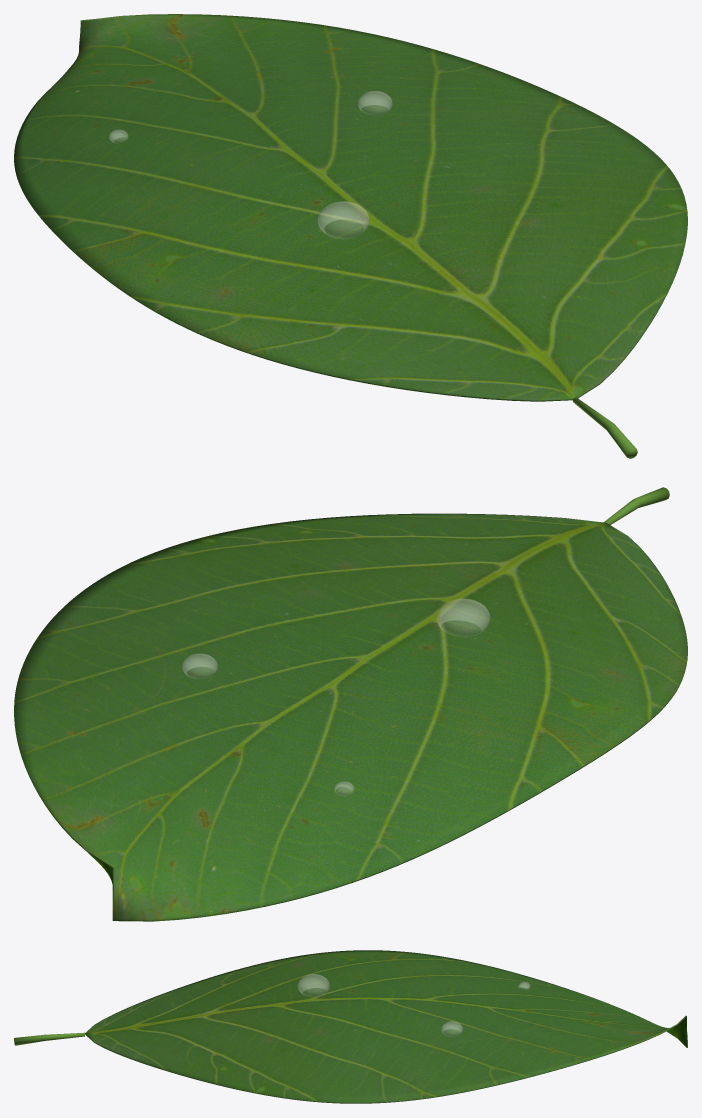
The model's file is leaf-v7.glb.
3 views of the same model, one above another, from view 1: azimuth 30°, elevation 25°; view 2: azimuth 150°, elevation 25°; view 3: azimuth 270°, elevation 25° (orthographic). The views are drawn at different scales.
Visible parts, largest first — view 1: V7 curved smooth margin living leaf, Leaf dew water drop, V7 curved short leaf petiole, Leaf dew water drop.001; view 2: V7 curved smooth margin living leaf, Leaf dew water drop, V7 curved short leaf petiole, Leaf dew water drop.001; view 3: V7 curved smooth margin living leaf, Leaf dew water drop, V7 curved short leaf petiole, Leaf dew water drop.001.
Boxes of the visible parts, x1=… form: V7 curved smooth margin living leaf: x1=14, y1=14, x2=687, y2=401; Leaf dew water drop: x1=318, y1=201, x2=368, y2=238; V7 curved short leaf petiole: x1=573, y1=397, x2=637, y2=458; Leaf dew water drop.001: x1=358, y1=91, x2=392, y2=114; V7 curved smooth margin living leaf: x1=14, y1=513, x2=687, y2=921; Leaf dew water drop: x1=437, y1=599, x2=489, y2=636; V7 curved short leaf petiole: x1=604, y1=487, x2=669, y2=524; Leaf dew water drop.001: x1=182, y1=654, x2=217, y2=678; V7 curved smooth margin living leaf: x1=85, y1=950, x2=687, y2=1103; Leaf dew water drop: x1=298, y1=974, x2=329, y2=996; V7 curved short leaf petiole: x1=14, y1=1032, x2=84, y2=1045; Leaf dew water drop.001: x1=442, y1=1021, x2=462, y2=1036.
Bounding box in the file's own units: 0.5612 × 0.0987 × 1.
Materials: 4 (2 with a texture image).
